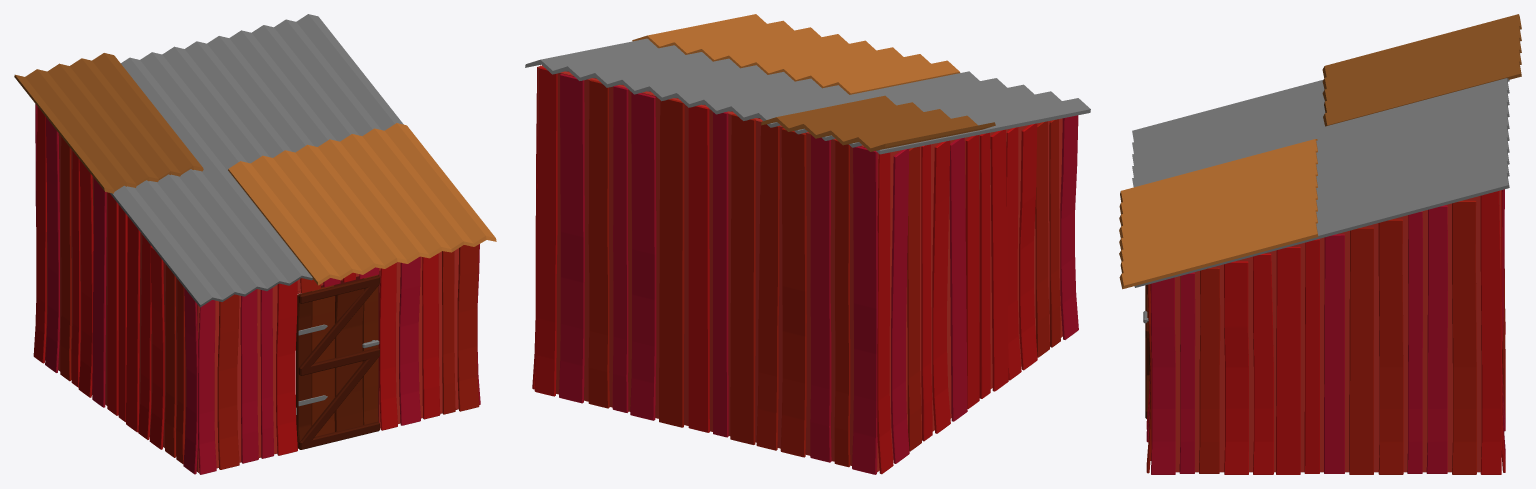
The model's file is Shed_v002.fbx.
3 views of the same model, side by side, from view 1: azimuth 30°, elevation 25°; view 2: azimuth 150°, elevation 25°; view 3: azimuth 270°, elevation 25° (orthographic). The views are drawn at different scales.
Visible parts, largest first — view 1: Roof, Walls, Door; view 2: Walls, Roof; view 3: Walls, Roof, Door.
Part boxes in pixels (x1,y1,x2,y2): Roof: (14, 14, 496, 307); Walls: (33, 104, 480, 474); Door: (296, 275, 379, 449); Walls: (532, 65, 1078, 474); Roof: (525, 14, 1090, 154); Walls: (1146, 189, 1505, 474); Roof: (1119, 14, 1521, 289); Door: (1143, 285, 1149, 418).
Bounding box in the file's own units: 18.74 × 16.68 × 20.07.
